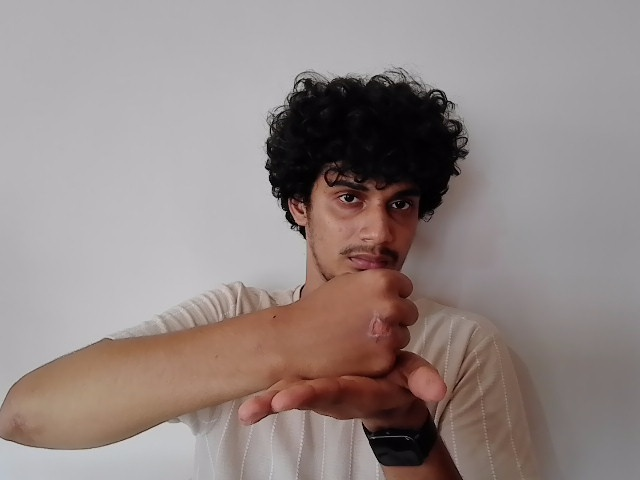help: (236, 267, 451, 428)
